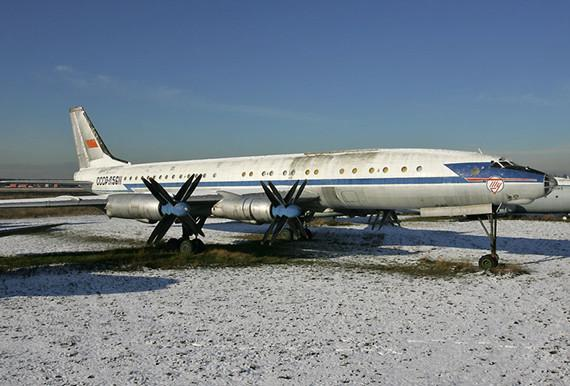airplane: (4, 97, 557, 267)
